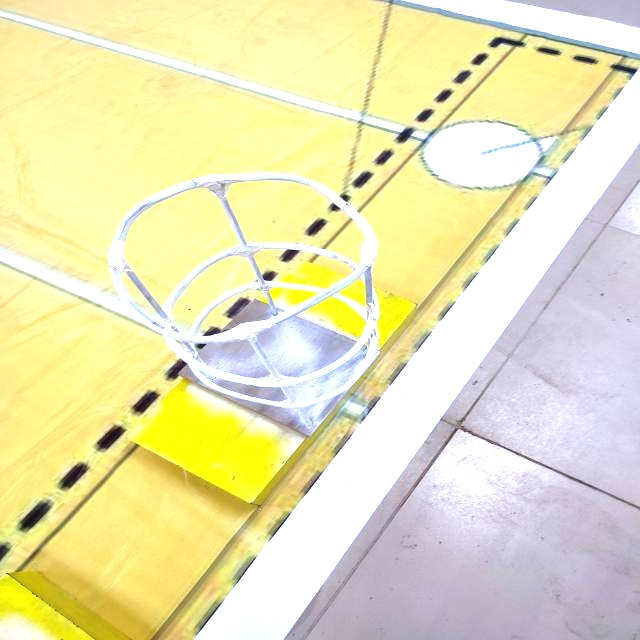silo: (98, 143, 414, 435)
